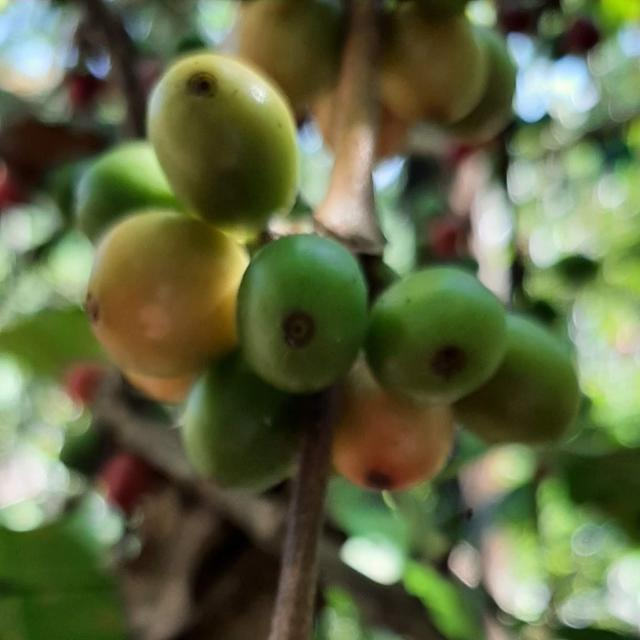green: (147, 52, 298, 229), (237, 234, 368, 393), (366, 266, 507, 404), (180, 352, 302, 492), (455, 314, 581, 444), (75, 140, 179, 241)
yellow: (333, 355, 455, 492)
